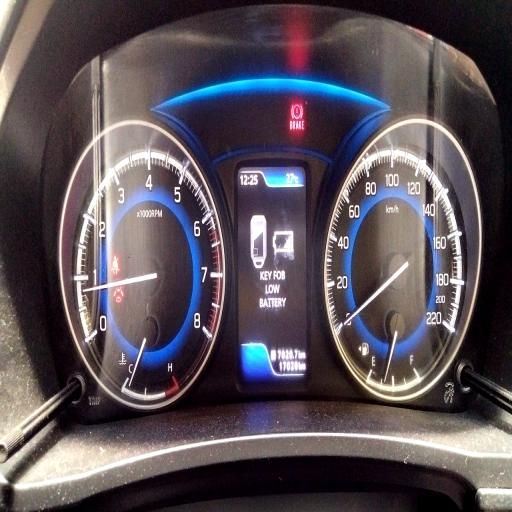belt: (112, 256, 120, 276)
brake_system_fault: (290, 104, 304, 121)
tachometer: (76, 150, 226, 396)
